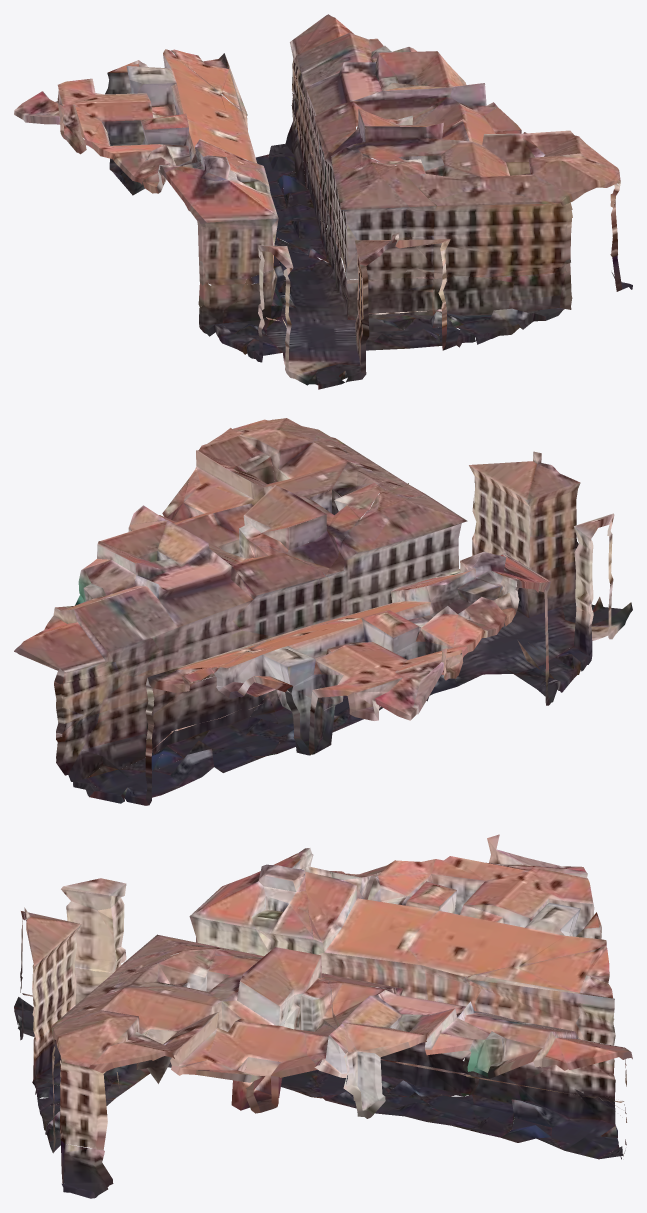
3 views of the same model, one above another, from view 1: azimuth 30°, elevation 25°; view 2: azimuth 150°, elevation 25°; view 3: azimuth 270°, elevation 25° (orthographic). The views are drawn at different scales.
Visible parts, largest first — view 1: Mesh_0; view 2: Mesh_0; view 3: Mesh_0.
Part boxes in pixels (box(x1,y1,x2,y2)): Mesh_0: box(14, 14, 632, 389); Mesh_0: box(14, 418, 632, 805); Mesh_0: box(14, 834, 632, 1198).
Bounding box in the file's own units: 66.56 × 26.96 × 82.7.
2 materials, 2 textured.
